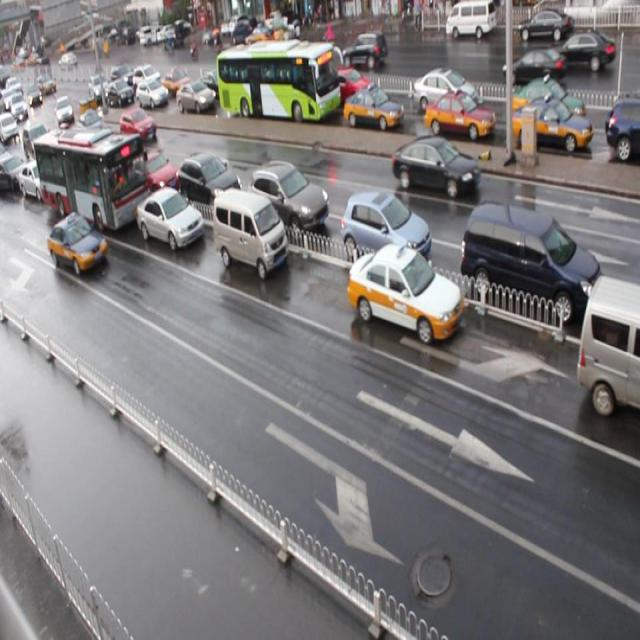car: (347, 241, 463, 346), (341, 190, 431, 274), (248, 160, 329, 233), (390, 136, 479, 200), (512, 97, 591, 155), (137, 186, 204, 250), (177, 150, 243, 210), (511, 78, 586, 127), (48, 215, 108, 276), (422, 92, 494, 140), (411, 68, 479, 118), (344, 88, 404, 132), (134, 146, 180, 194), (604, 102, 640, 163), (326, 65, 372, 101), (20, 157, 57, 201), (85, 134, 124, 173), (120, 106, 157, 144), (177, 80, 214, 114), (23, 122, 52, 162), (1, 152, 28, 194), (34, 130, 63, 169), (137, 78, 170, 110), (161, 69, 193, 97), (200, 70, 228, 101), (622, 91, 640, 135), (80, 108, 106, 137), (132, 64, 160, 90), (107, 79, 134, 104)
truck: (463, 197, 604, 327), (576, 273, 640, 419), (212, 188, 287, 278)
van: (34, 125, 154, 234), (217, 44, 341, 124)
